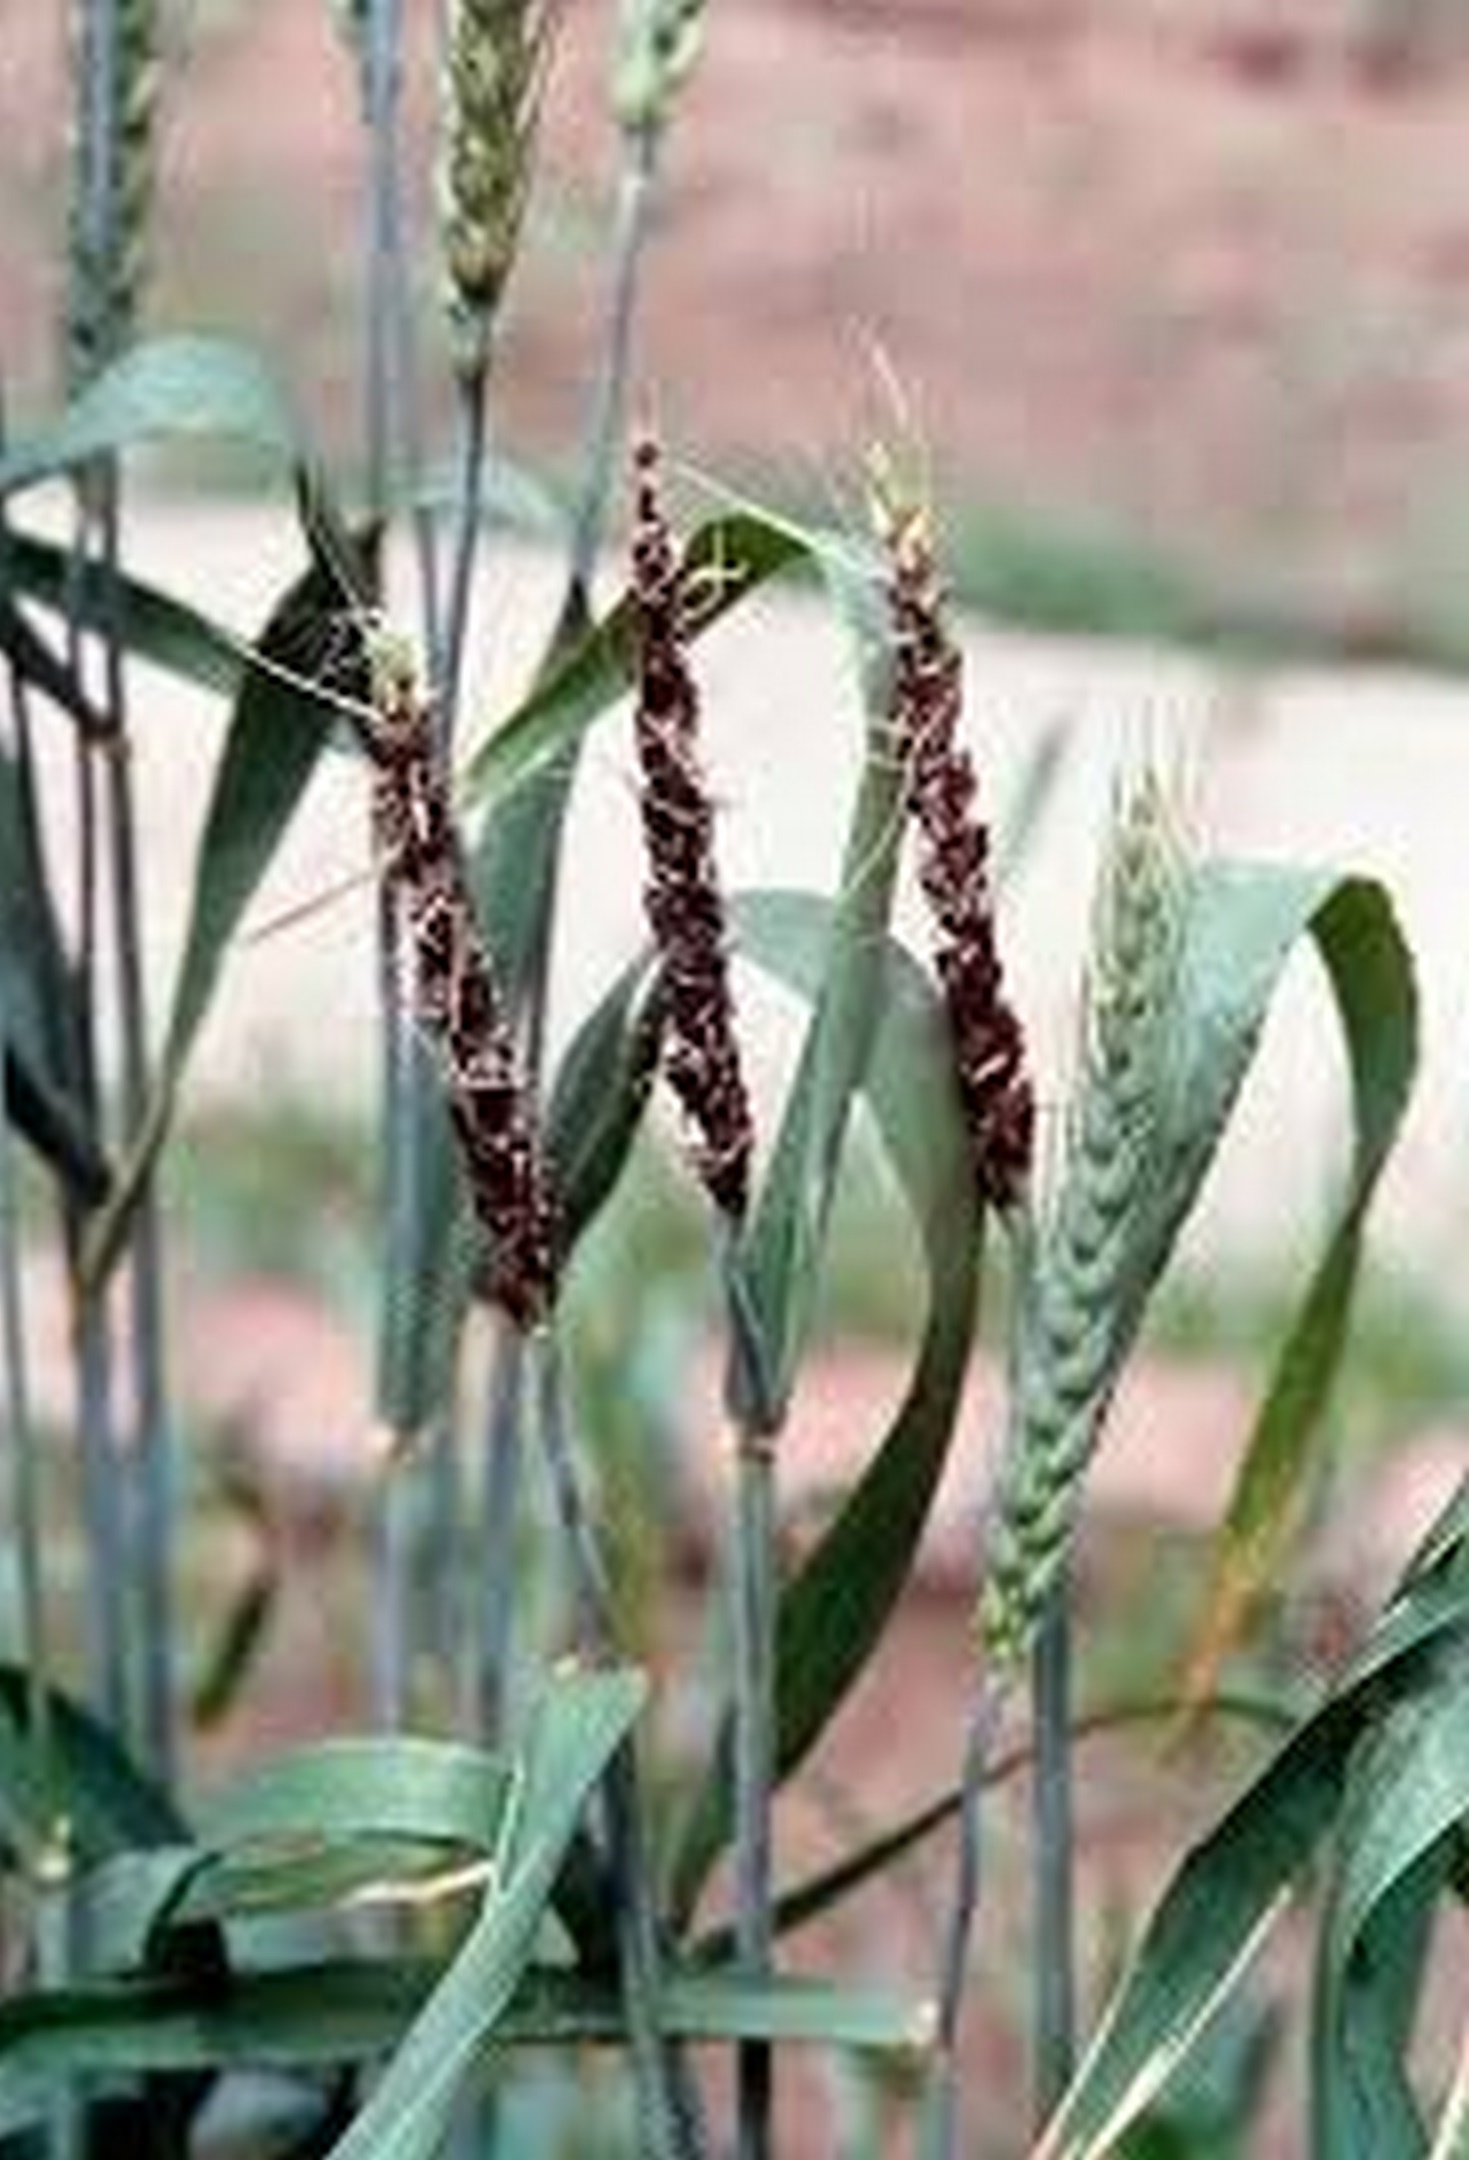Wheat Loose Smut: (330, 456, 1066, 1232)
